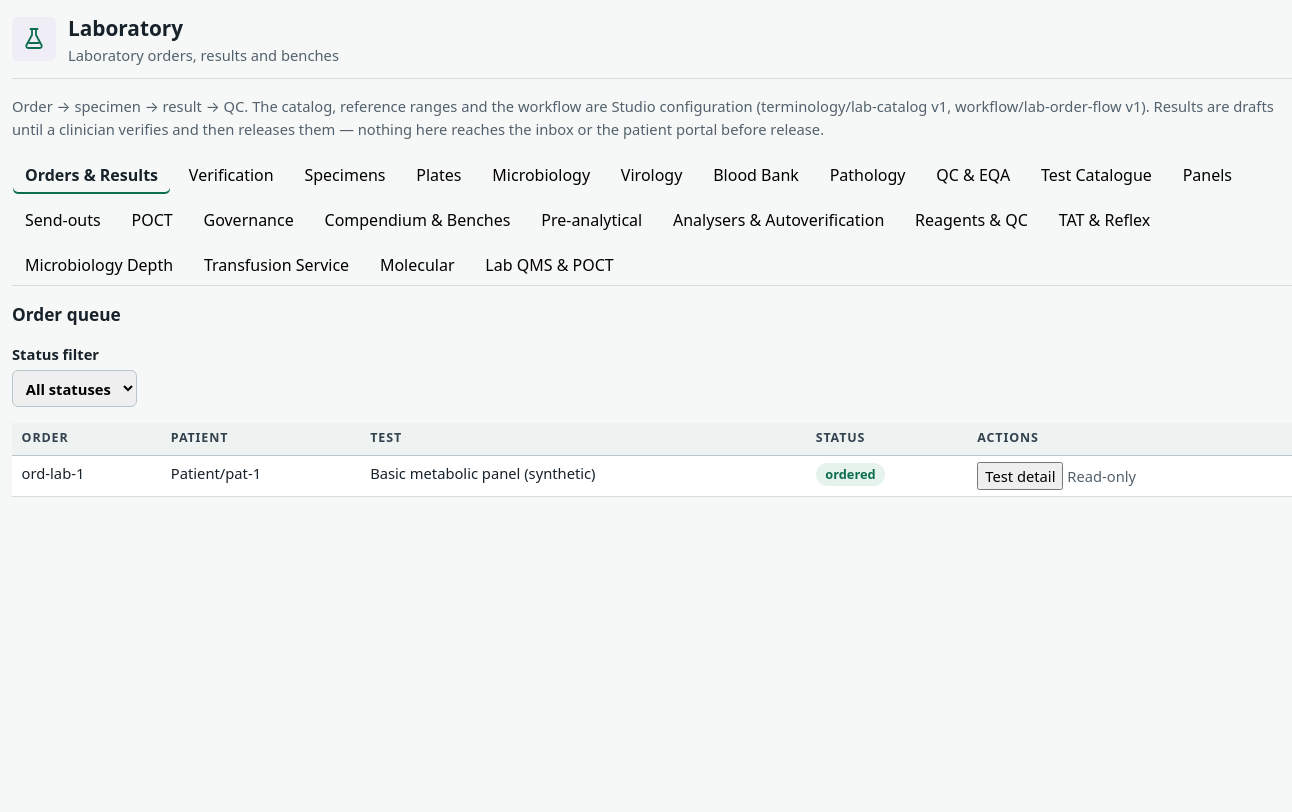
Test: LabPage › hides write controls from the viewer role (server enforces regardless)
The width and height of the screenshot is (1292, 812).
expect the text "ord-lab-1" is shown: met, box [12,455,161,497]
Click the tab "Verification" at (231,174), box [176,154,287,195]
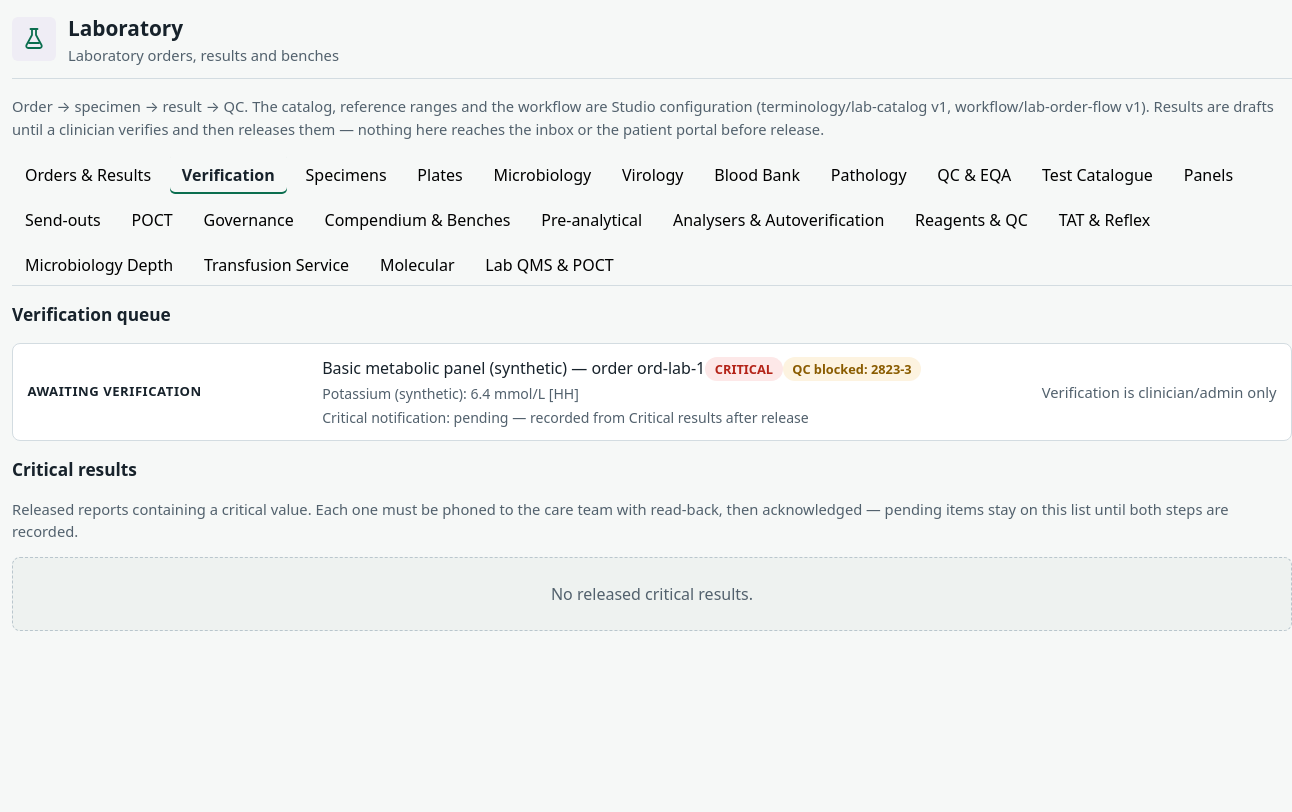
expect the text "Verification is clinician/admin only" is shown: met, box [1042,381,1277,403]
